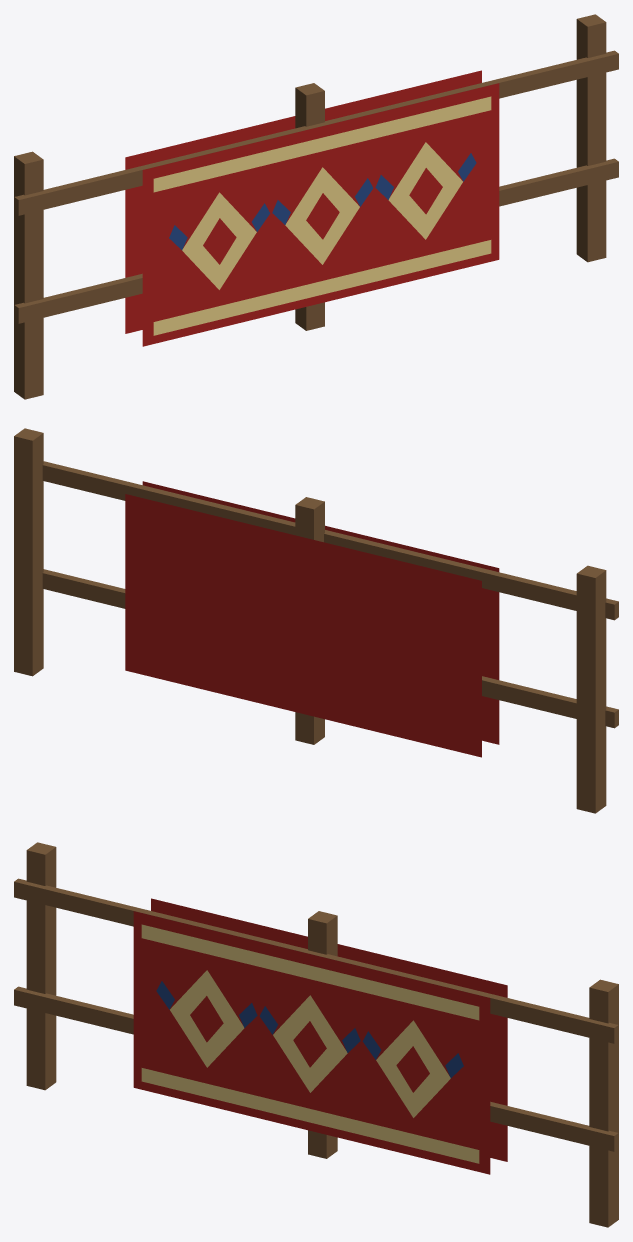
The model's file is Yard_ShyrdakFence.obj.
3 views of the same model, one above another, from view 1: azimuth 30°, elevation 25°; view 2: azimuth 150°, elevation 25°; view 3: azimuth 330°, elevation 25° (orthographic).
Visible parts, largest first — view 1: Yard_ShyrdakFence; view 2: Yard_ShyrdakFence; view 3: Yard_ShyrdakFence.
Part boxes in pixels (bbox=[...]): Yard_ShyrdakFence: bbox=[14, 14, 618, 399]; Yard_ShyrdakFence: bbox=[14, 428, 618, 813]; Yard_ShyrdakFence: bbox=[14, 842, 618, 1227].
Size of the model in its own units: 3.2 by 1.2 by 0.178.
